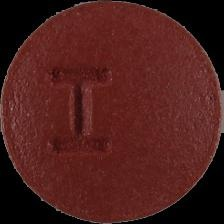66267-018: (0, 0, 224, 224)
